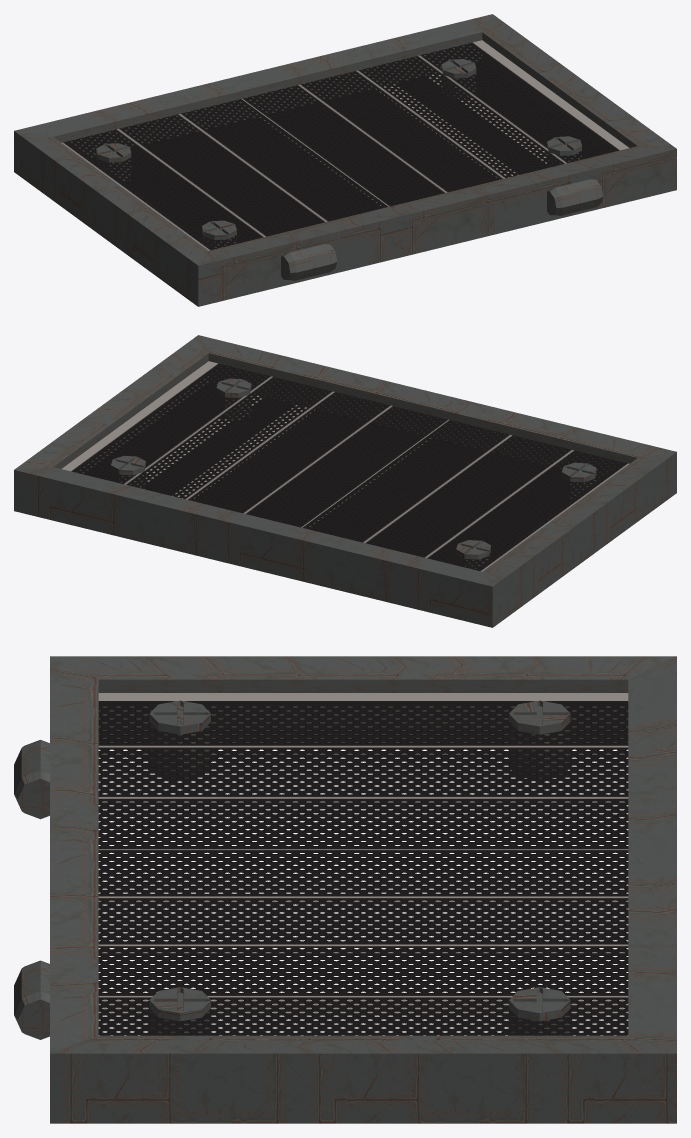
The model's file is Vents_cote_grid.fbx.
3 views of the same model, one above another, from view 1: azimuth 30°, elevation 25°; view 2: azimuth 150°, elevation 25°; view 3: azimuth 270°, elevation 25° (orthographic). The views are drawn at different scales.
Visible parts, largest first — view 1: Vent_cote_plain; view 2: Vent_cote_plain; view 3: Vent_cote_plain.
Part boxes in pixels (<box>): Vent_cote_plain: <box>14,14,676,306</box>; Vent_cote_plain: <box>14,335,676,627</box>; Vent_cote_plain: <box>14,656,676,1123</box>.
Bounding box in the file's own units: 1.5 × 0.1234 × 1.06.
2 materials, 2 textured.
